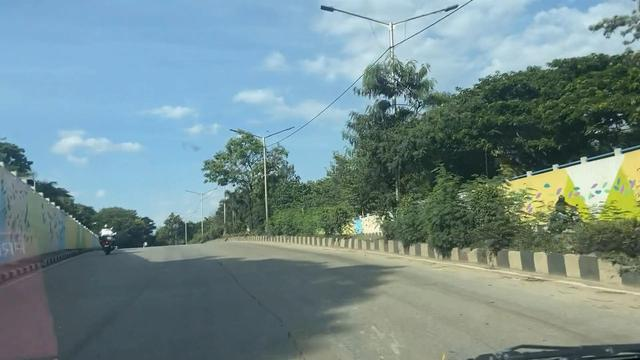LMV: (101, 224, 114, 251)
RoadDamages: (215, 259, 305, 360), (346, 305, 403, 360)
